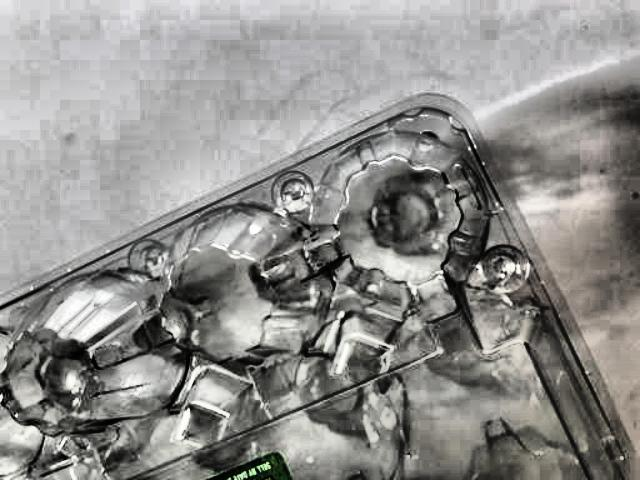Plastic: (0, 88, 632, 480)
